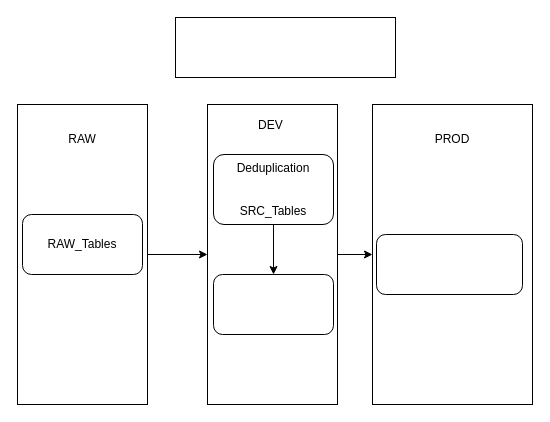
The diagram is 550 pixels wide and 422 high, and some of its shapes have lost their labels. The centre of each missing label's shape, as x and y in pixels:
ARCHITECTURE: (285,47)
Enriching SRC_Tables: (273,304)
MART _Tables: (449,264)
